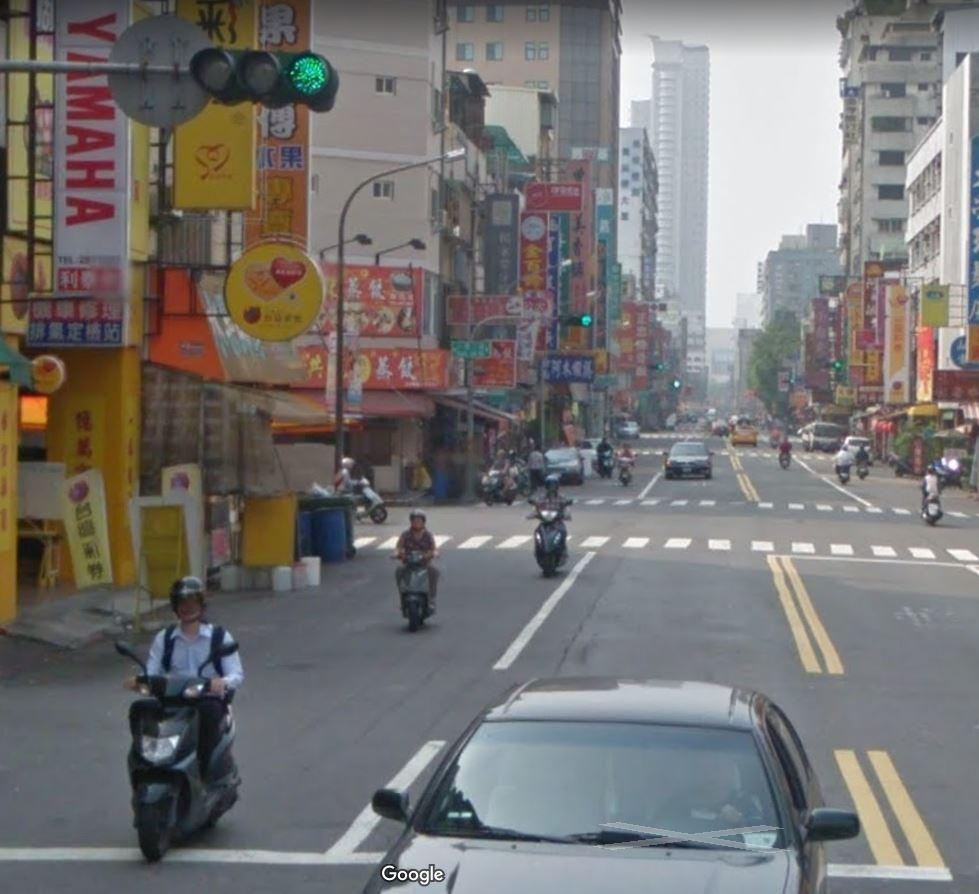car: (350, 680, 867, 894), (529, 440, 590, 496), (669, 432, 716, 477), (790, 420, 848, 453)
green_traffic_light: (191, 36, 342, 116)
motorcycle: (106, 644, 257, 855), (384, 541, 444, 631), (521, 496, 578, 582)
